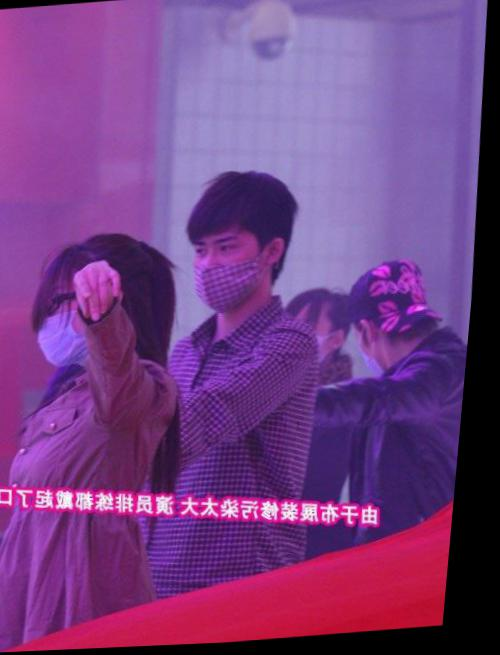OK: (42, 289, 119, 368)
WRONG: (191, 223, 285, 314)
